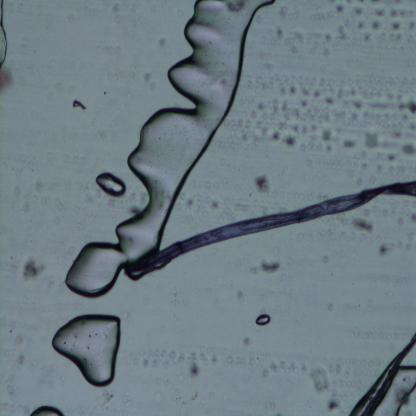Air bubble: (60, 1, 281, 295), (50, 306, 122, 388), (96, 171, 128, 197), (29, 402, 64, 415), (255, 310, 273, 327)
Background material: (233, 77, 291, 151), (0, 0, 15, 100), (143, 345, 185, 367), (318, 17, 350, 45), (322, 84, 346, 112), (308, 363, 331, 392), (348, 214, 376, 235), (259, 360, 287, 380), (23, 257, 46, 281), (394, 93, 416, 117), (190, 351, 219, 368), (251, 172, 273, 194), (364, 128, 383, 153), (350, 1, 366, 26), (260, 258, 282, 276), (367, 97, 395, 111), (121, 200, 142, 216), (142, 66, 158, 86), (154, 32, 169, 52), (400, 140, 416, 158), (282, 134, 299, 150), (327, 396, 342, 414), (230, 285, 244, 304), (13, 352, 28, 369), (370, 18, 385, 34), (378, 242, 392, 259), (184, 194, 194, 216), (342, 138, 357, 152), (190, 362, 202, 379), (289, 82, 301, 97), (404, 212, 416, 227), (391, 17, 403, 31), (384, 150, 398, 162), (72, 98, 86, 110), (320, 130, 331, 144), (275, 27, 286, 41), (374, 5, 386, 16), (238, 335, 248, 348), (312, 87, 323, 98), (353, 100, 365, 110), (301, 98, 308, 110), (389, 6, 397, 16), (350, 90, 359, 98)
Cellulose filter fibre: (362, 329, 416, 415)
Cotton: (124, 177, 416, 275)
